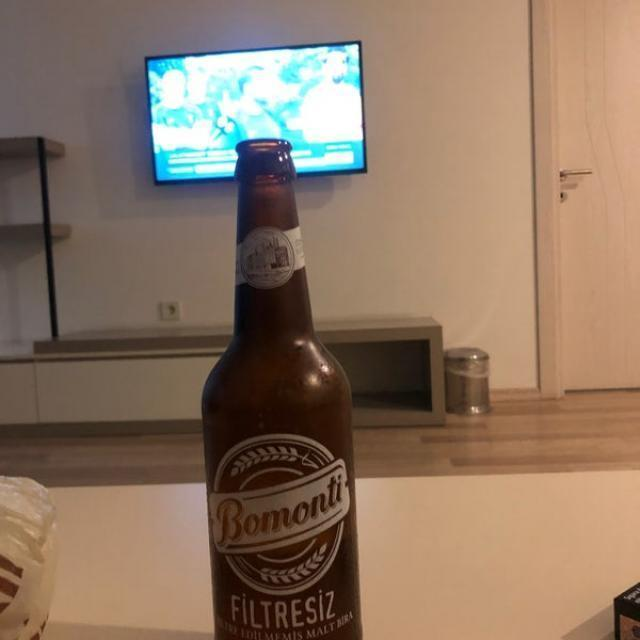Glass: (199, 137, 363, 640)
